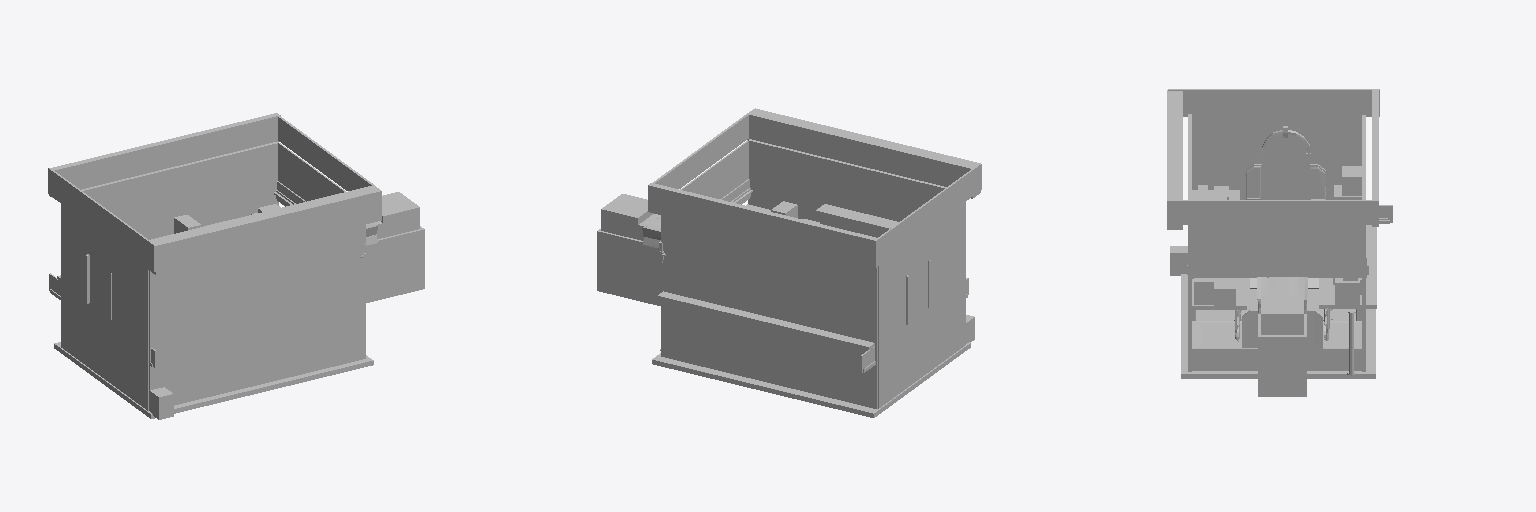
The model's file is Museum-noMaterials.obj.
3 renders of one model, left to right at view 1: azimuth 30°, elevation 25°; view 2: azimuth 150°, elevation 25°; view 3: azimuth 270°, elevation 25°, orthographic.
Size of the model in its own units: 51.09 by 27.74 by 31.65.